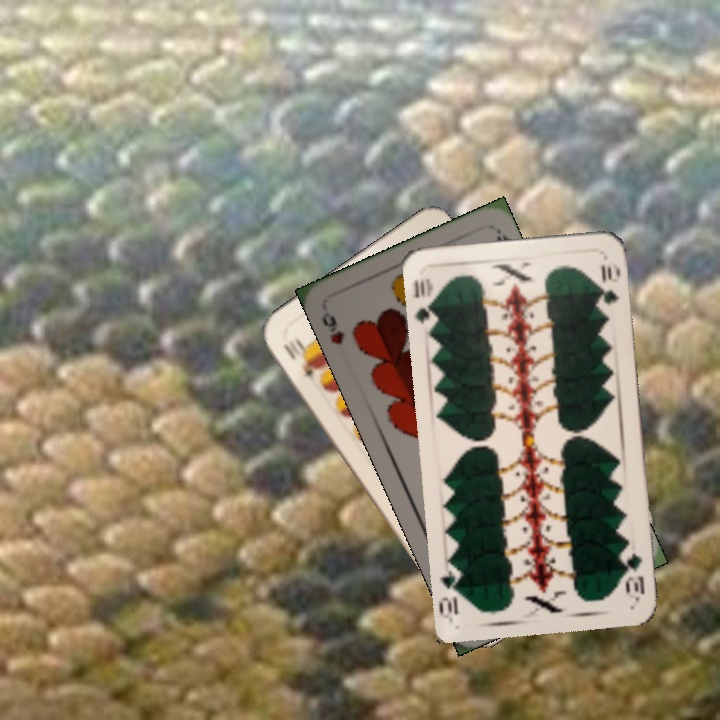E10: (279, 335, 319, 380)
G10: (409, 274, 439, 326), (620, 549, 648, 597)
H9: (317, 307, 348, 348)
